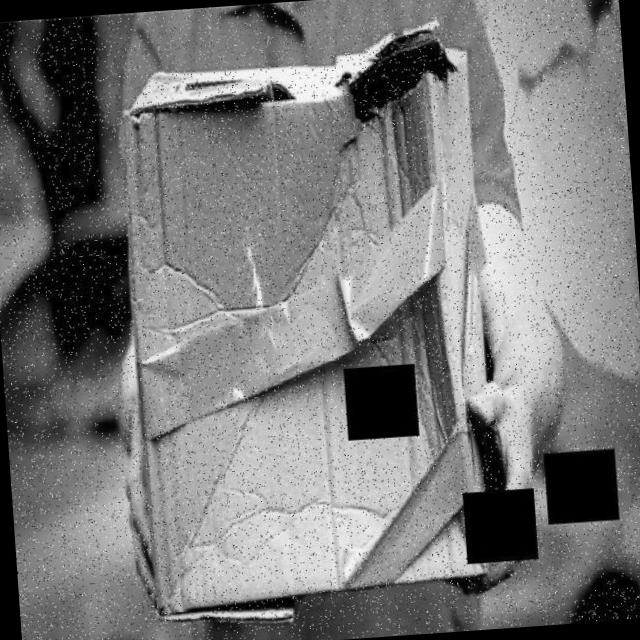box: (104, 21, 508, 624)
